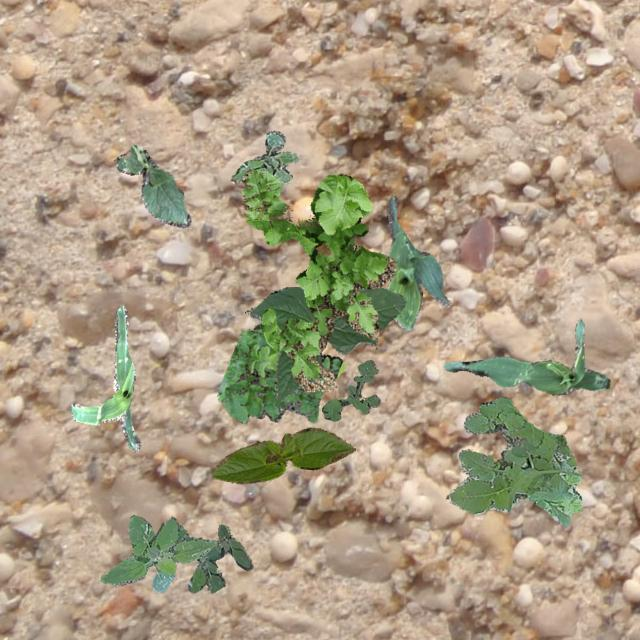crop: (248, 286, 406, 402), (442, 318, 608, 394), (68, 304, 140, 448), (386, 194, 450, 328), (210, 427, 354, 482), (112, 144, 190, 226)
weed: (240, 170, 396, 390), (444, 396, 580, 526), (216, 322, 344, 422), (100, 514, 216, 592), (176, 524, 252, 592), (230, 130, 300, 183), (321, 358, 378, 421)
